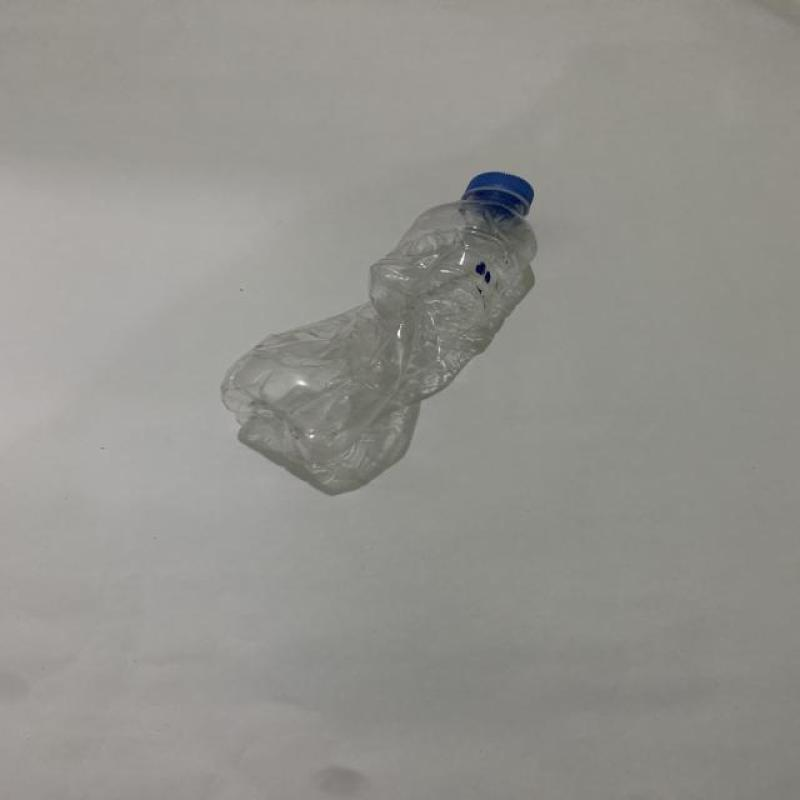botella: (220, 172, 540, 473)
